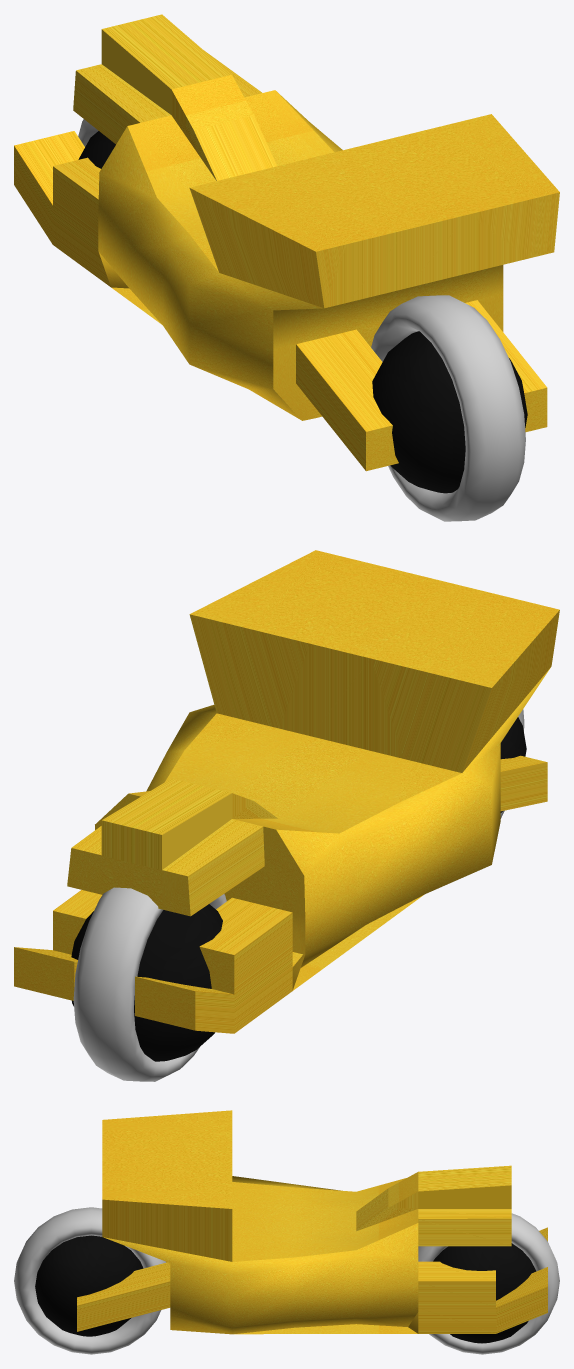
Rendered from Bike5.fbx.
3 views of the same model, one above another, from view 1: azimuth 30°, elevation 25°; view 2: azimuth 150°, elevation 25°; view 3: azimuth 270°, elevation 25° (orthographic). The views are drawn at different scales.
Visible parts, largest first — view 1: Box002, Torus001, Sphere002, Sphere001; view 2: Box002, Torus002, Sphere001, Sphere002; view 3: Box002, Torus001, Sphere002, Torus002, Sphere001.
Boxes of the visible parts, <box> form: Box002: <box>14,14,559,471</box>; Torus001: <box>371,295,525,521</box>; Sphere002: <box>372,331,527,493</box>; Sphere001: <box>78,131,115,168</box>; Box002: <box>14,550,559,1033</box>; Torus002: <box>73,887,226,1081</box>; Sphere001: <box>71,904,222,1061</box>; Sphere002: <box>500,717,526,812</box>; Box002: <box>77,1110,547,1334</box>; Torus001: <box>14,1207,165,1354</box>; Sphere002: <box>35,1235,143,1336</box>; Torus002: <box>418,1213,559,1354</box>; Sphere001: <box>433,1243,536,1343</box>.
Bounding box in the file's own units: 53.82 × 126 × 48.59.
